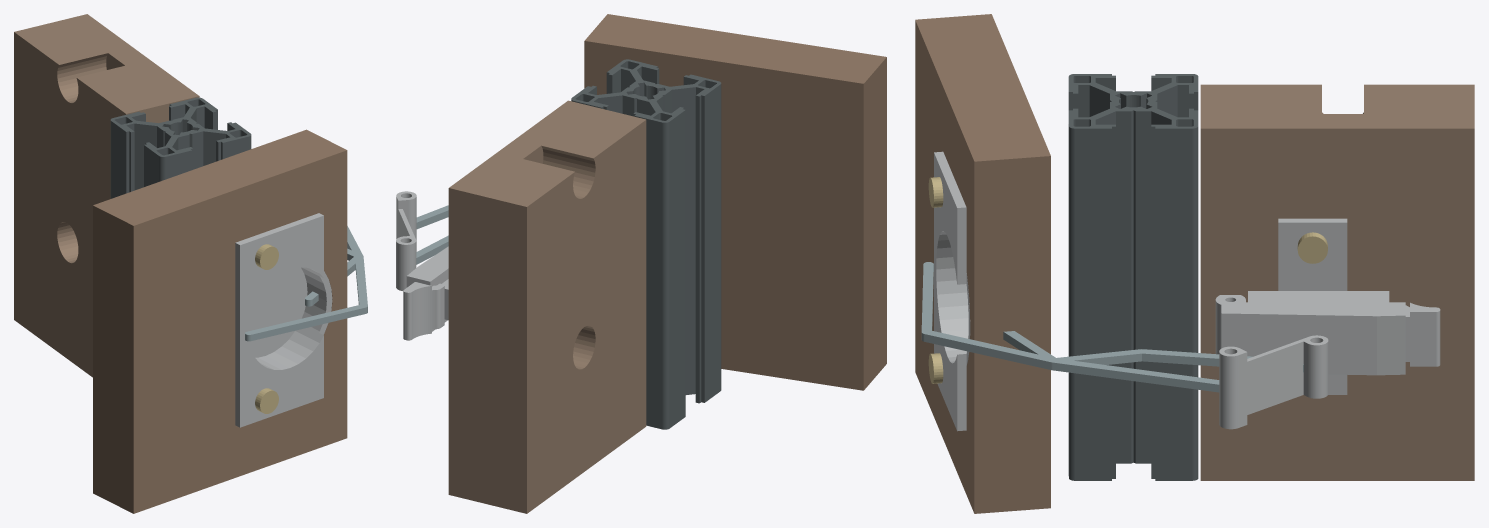
Rendered from hinge-170.glb.
The picture shows the model from 3 angles, left to right: view 1: azimuth 30°, elevation 25°; view 2: azimuth 150°, elevation 25°; view 3: azimuth 270°, elevation 25°; orthographic projection. The views are drawn at different scales.
Parts seen in each view (by area): view 1: Left-door-face-18, Left-pegboard-24, Blum-wide-1-cup-envelope, Post-4-23, Blum-wide-1-schematic-body-4, Blum-wide-1-schematic-body-2, Blum-wide-1-schematic-body-3, Blum-wide-1-cup-screw-870.5, Blum-wide-1-cup-screw-915.5; view 2: Left-pegboard-24, Left-door-face-18, Post-4-23, Blum-wide-1-factory-body-6, Blum-wide-1-factory-body-1; view 3: Left-pegboard-24, Post-4-23, Left-door-face-18, Blum-wide-1-factory-body-6, Blum-wide-1-cup-envelope, Blum-wide-1-factory-body-1, Blum-wide-1-175H7190-envelope, Blum-wide-1-schematic-body-2, Blum-wide-1-schematic-body-3, Blum-wide-1-schematic-body-0, Blum-wide-1-schematic-body-4, Blum-wide-1-plate-screw-909.0.
Boxes of the visible parts, x1,y1,x2,y2 form: Left-door-face-18: (93, 129, 347, 513); Left-pegboard-24: (14, 14, 199, 377); Blum-wide-1-cup-envelope: (235, 213, 332, 427); Post-4-23: (110, 97, 251, 198); Blum-wide-1-schematic-body-4: (245, 304, 367, 341); Blum-wide-1-schematic-body-2: (305, 226, 363, 306); Blum-wide-1-schematic-body-3: (347, 248, 367, 313); Blum-wide-1-cup-screw-870.5: (255, 388, 278, 413); Blum-wide-1-cup-screw-915.5: (255, 244, 278, 269); Left-pegboard-24: (448, 100, 646, 513); Left-door-face-18: (584, 14, 886, 390); Post-4-23: (571, 59, 721, 429); Blum-wide-1-factory-body-6: (403, 246, 448, 340); Blum-wide-1-factory-body-1: (396, 191, 416, 290); Left-pegboard-24: (1200, 84, 1474, 480); Post-4-23: (1068, 74, 1198, 480); Left-door-face-18: (915, 14, 1050, 513); Blum-wide-1-factory-body-6: (1215, 295, 1440, 375); Blum-wide-1-cup-envelope: (934, 151, 970, 431); Blum-wide-1-factory-body-1: (1219, 335, 1328, 429); Blum-wide-1-175H7190-envelope: (1248, 218, 1389, 394); Blum-wide-1-schematic-body-2: (1003, 331, 1219, 392); Blum-wide-1-schematic-body-3: (921, 330, 1146, 370); Blum-wide-1-schematic-body-0: (1137, 349, 1303, 372); Blum-wide-1-schematic-body-4: (921, 262, 933, 341); Blum-wide-1-plate-screw-909.0: (1297, 232, 1327, 263).
Bounding box in the file's own units: 0.1111 × 0.09 × 0.1296.
